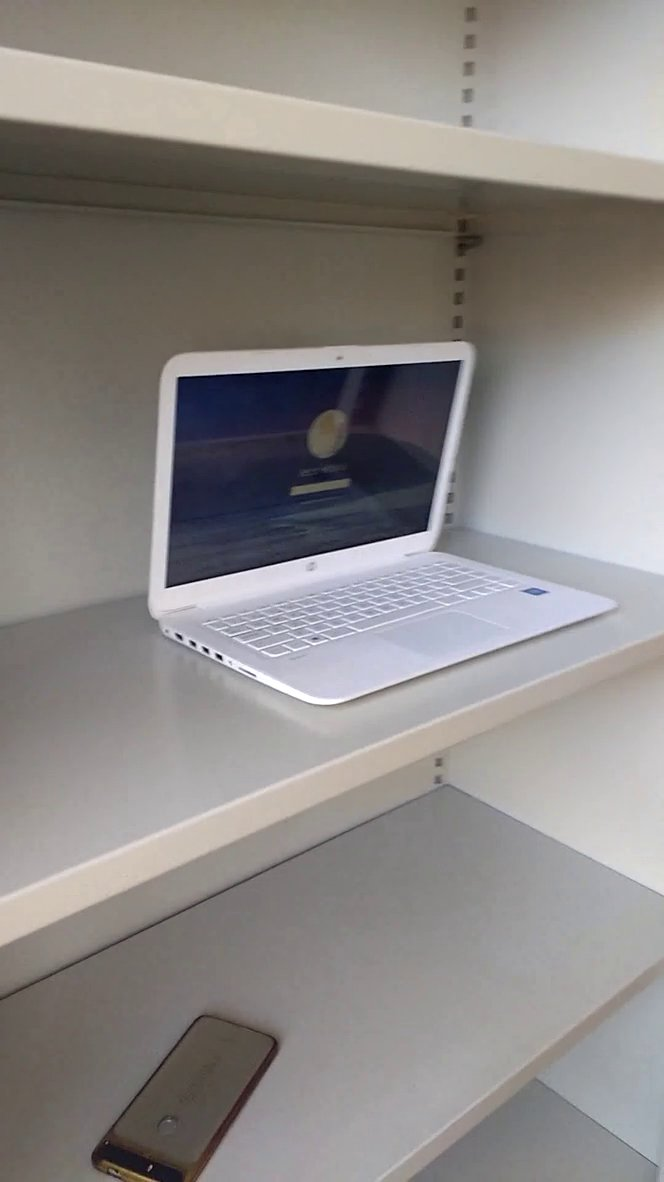laptop: (129, 328, 636, 723)
phone: (82, 998, 311, 1182)
